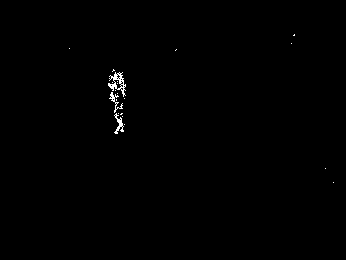person: (107, 71, 128, 136)
